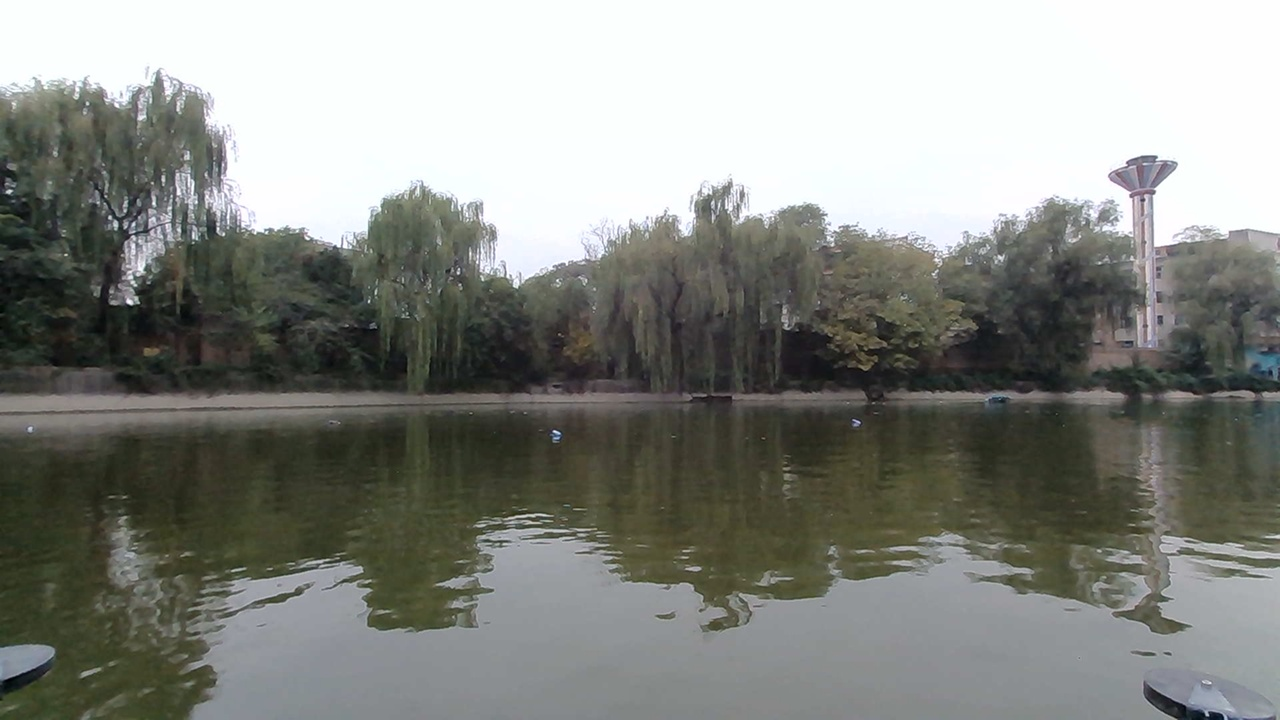bottle: (319, 404, 355, 435), (537, 420, 576, 448), (836, 408, 867, 429)
